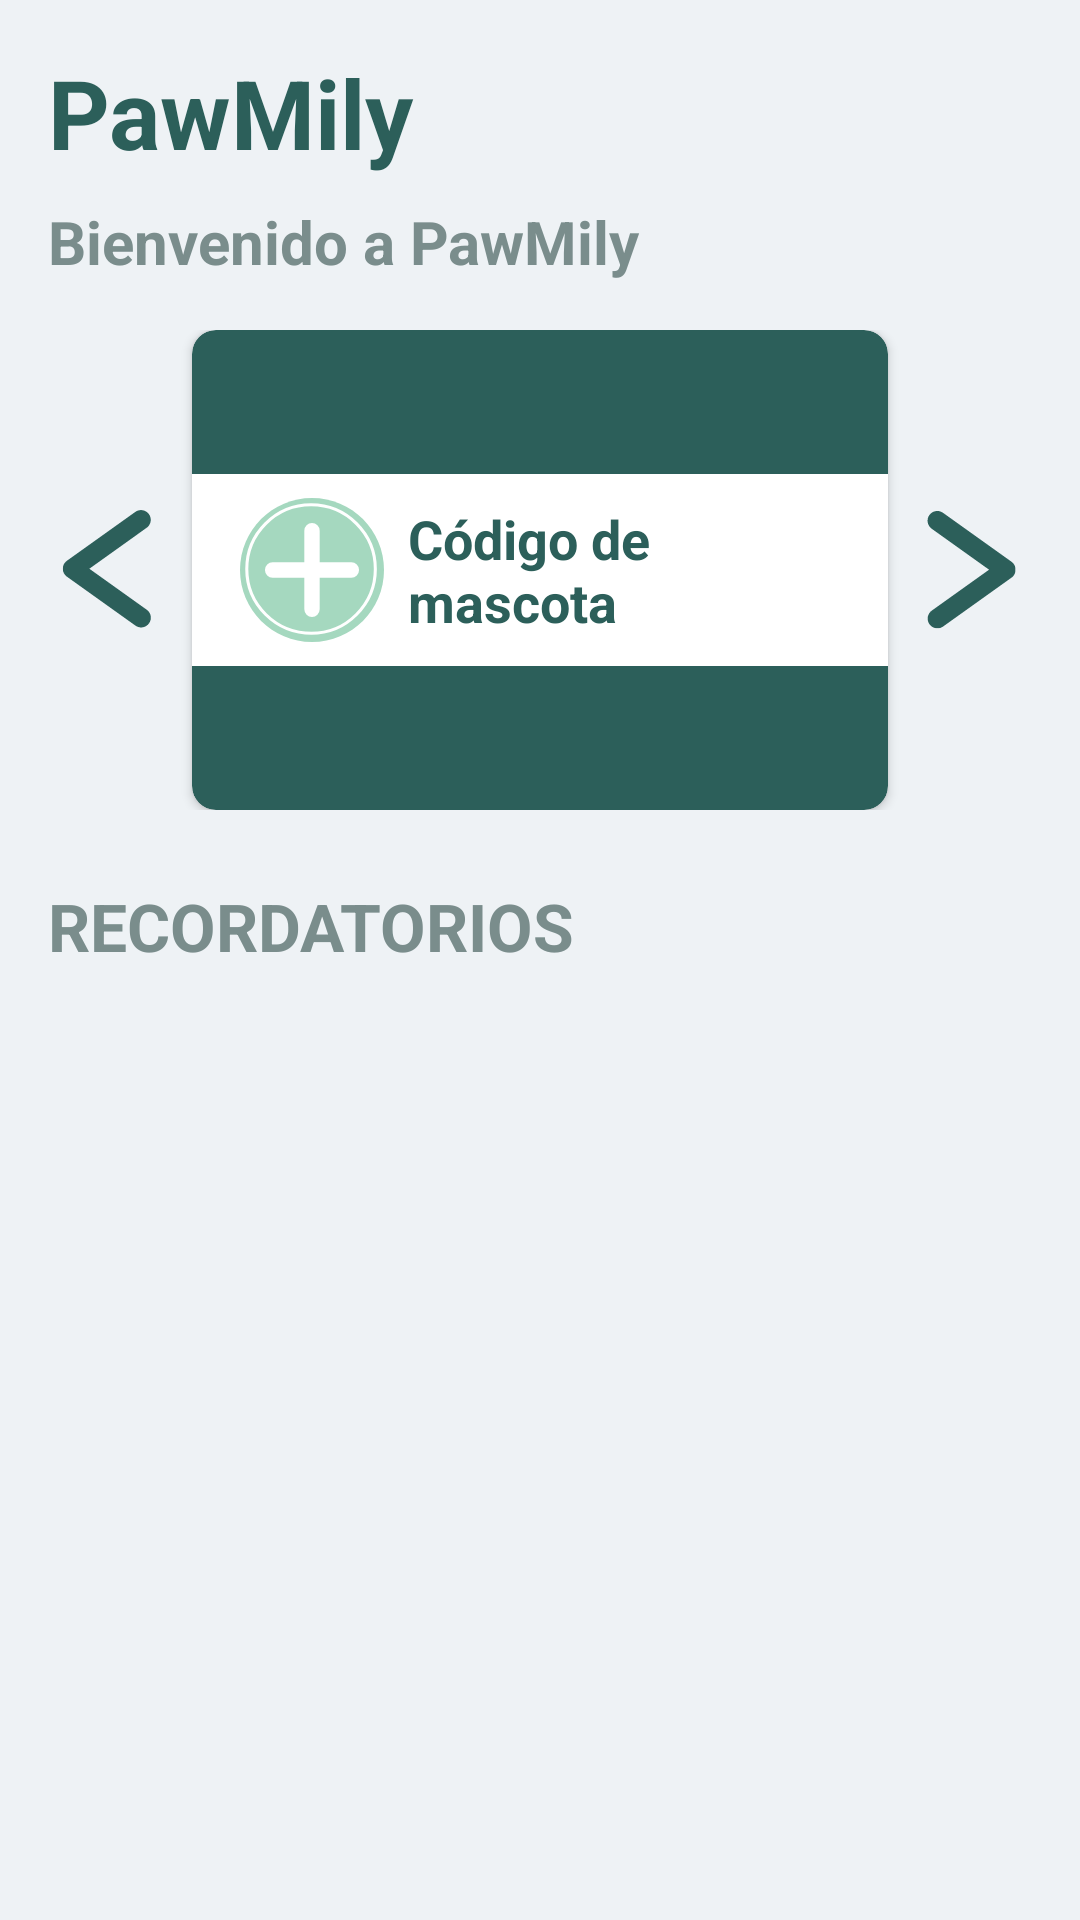

Point at icon controls on the screen. Image size 1080x1920, points as [x,y].
left: [107,569]
right: [971,569]
